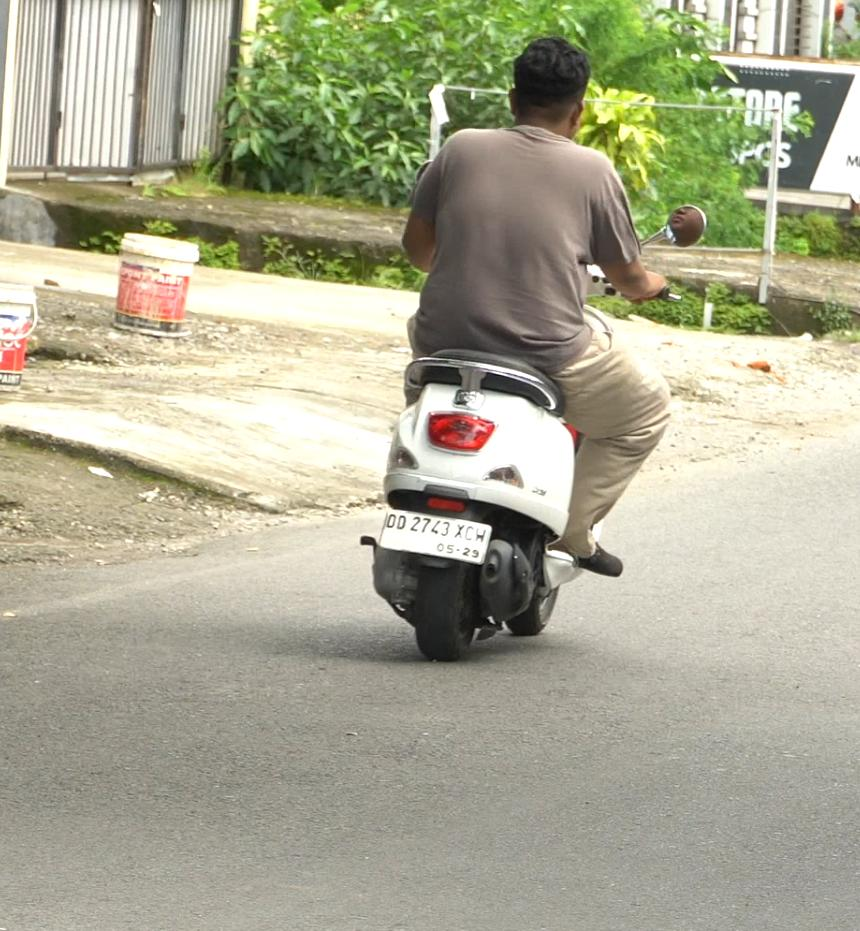number-plate: (372, 508, 493, 566)
